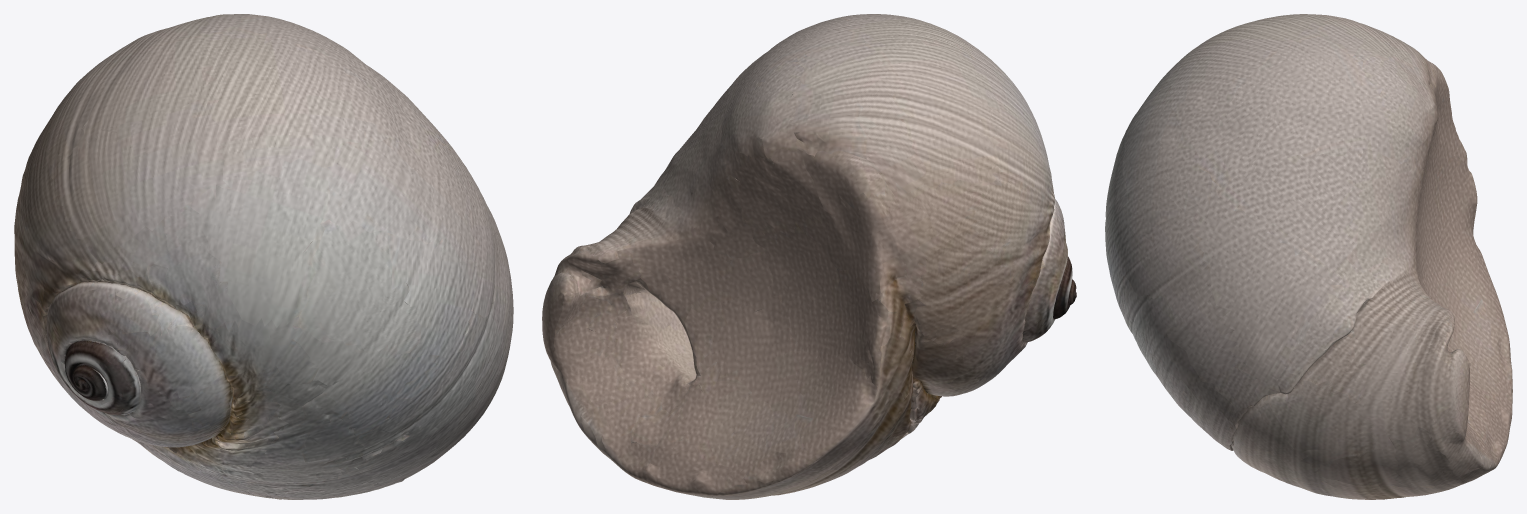
The model's file is sister-27.glb.
3 views of the same model, side by side, from view 1: azimuth 30°, elevation 25°; view 2: azimuth 150°, elevation 25°; view 3: azimuth 270°, elevation 25° (orthographic). The views are drawn at different scales.
Parts seen in each view (by area): view 1: moon snail shell; view 2: moon snail shell; view 3: moon snail shell.
Part boxes in pixels (x1=…): moon snail shell: x1=14, y1=14, x2=513, y2=499; moon snail shell: x1=542, y1=14, x2=1076, y2=499; moon snail shell: x1=1105, y1=14, x2=1512, y2=499.
Size of the model in its own units: 0.0693 by 0.0669 by 0.0607.
Materials: 1 (1 with a texture image).
